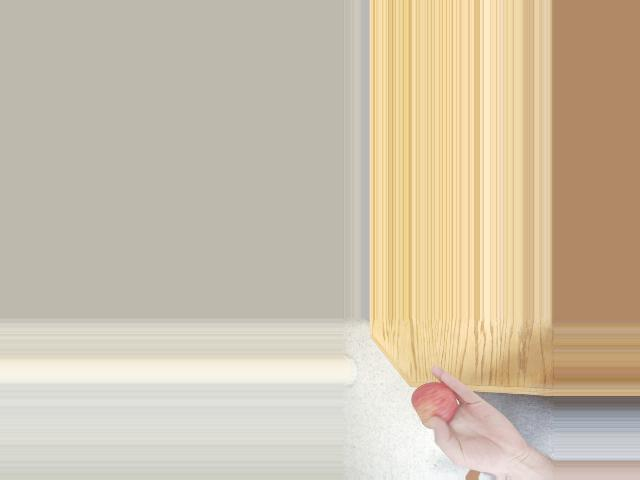apple: (407, 381, 464, 430)
